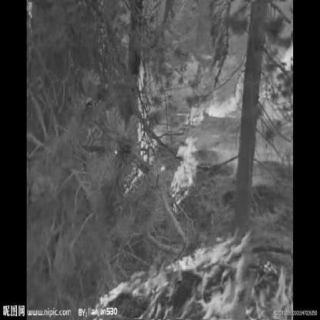Fire: (167, 130, 205, 208)
